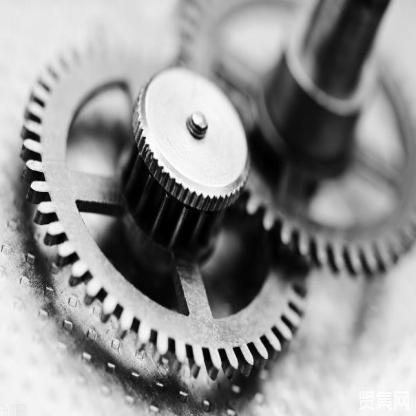FOD: (22, 14, 317, 376), (176, 0, 415, 279), (130, 63, 254, 212)
